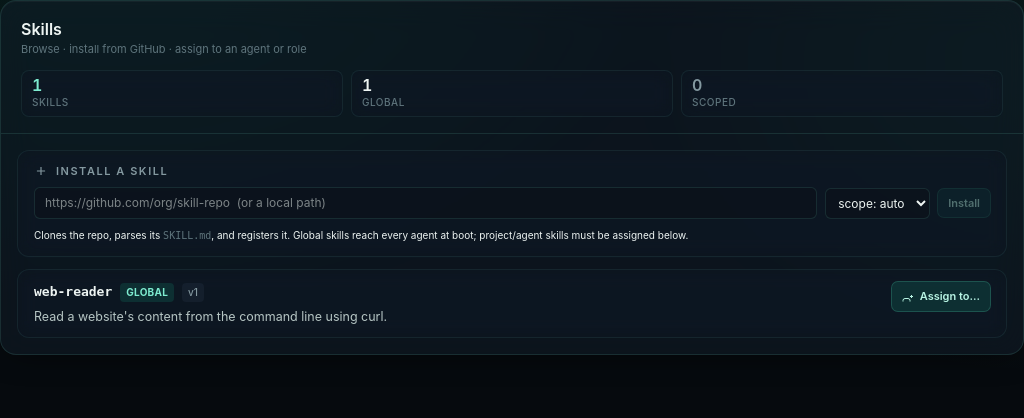
Test: SkillsView — install from GitHub › surfaces a thrown install error (transport) without crashing
Type "https://github.com/org/x" into the field named "Skill GitHub URL" at (426, 203), box [34,187,817,219]
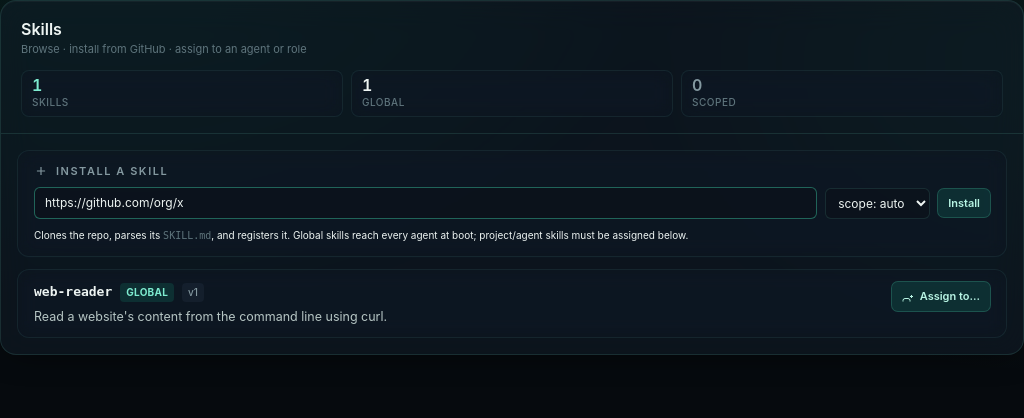
Click the button "Install" at (964, 203), box [938,189,990,217]
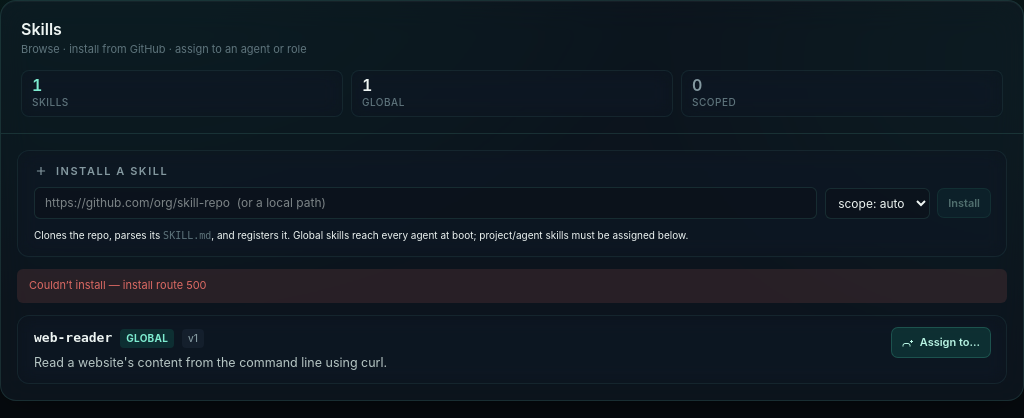
Check: the text "Couldn’t install — install route 500" is shown, box [17,269,1007,303]
